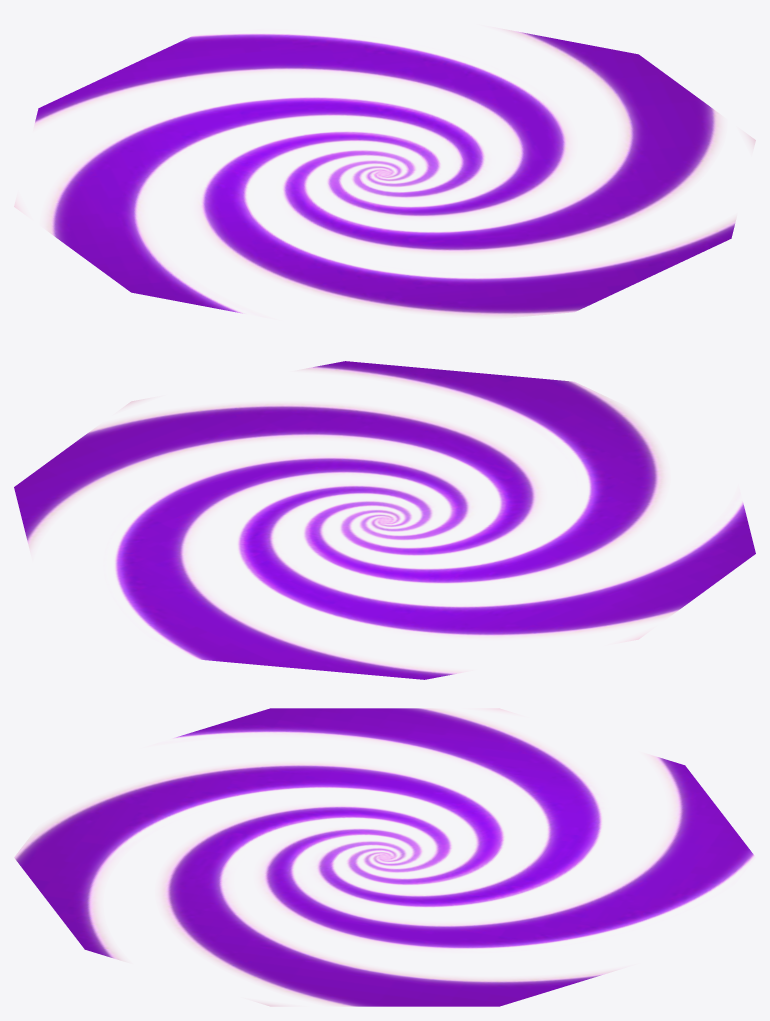
Rendered from Blackhole04.glb.
3 views of the same model, one above another, from view 1: azimuth 30°, elevation 25°; view 2: azimuth 150°, elevation 25°; view 3: azimuth 270°, elevation 25° (orthographic). The views are drawn at different scales.
Visible parts, largest first — view 1: Cylinder.012; view 2: Cylinder.012; view 3: Cylinder.012.
Part boxes in pixels (<box>): Cylinder.012: <box>14,28,755,316</box>; Cylinder.012: <box>14,361,755,679</box>; Cylinder.012: <box>14,708,755,1006</box>.
Size of the model in its own units: 9.79 by 0 by 10.3.
1 material, 1 textured.
